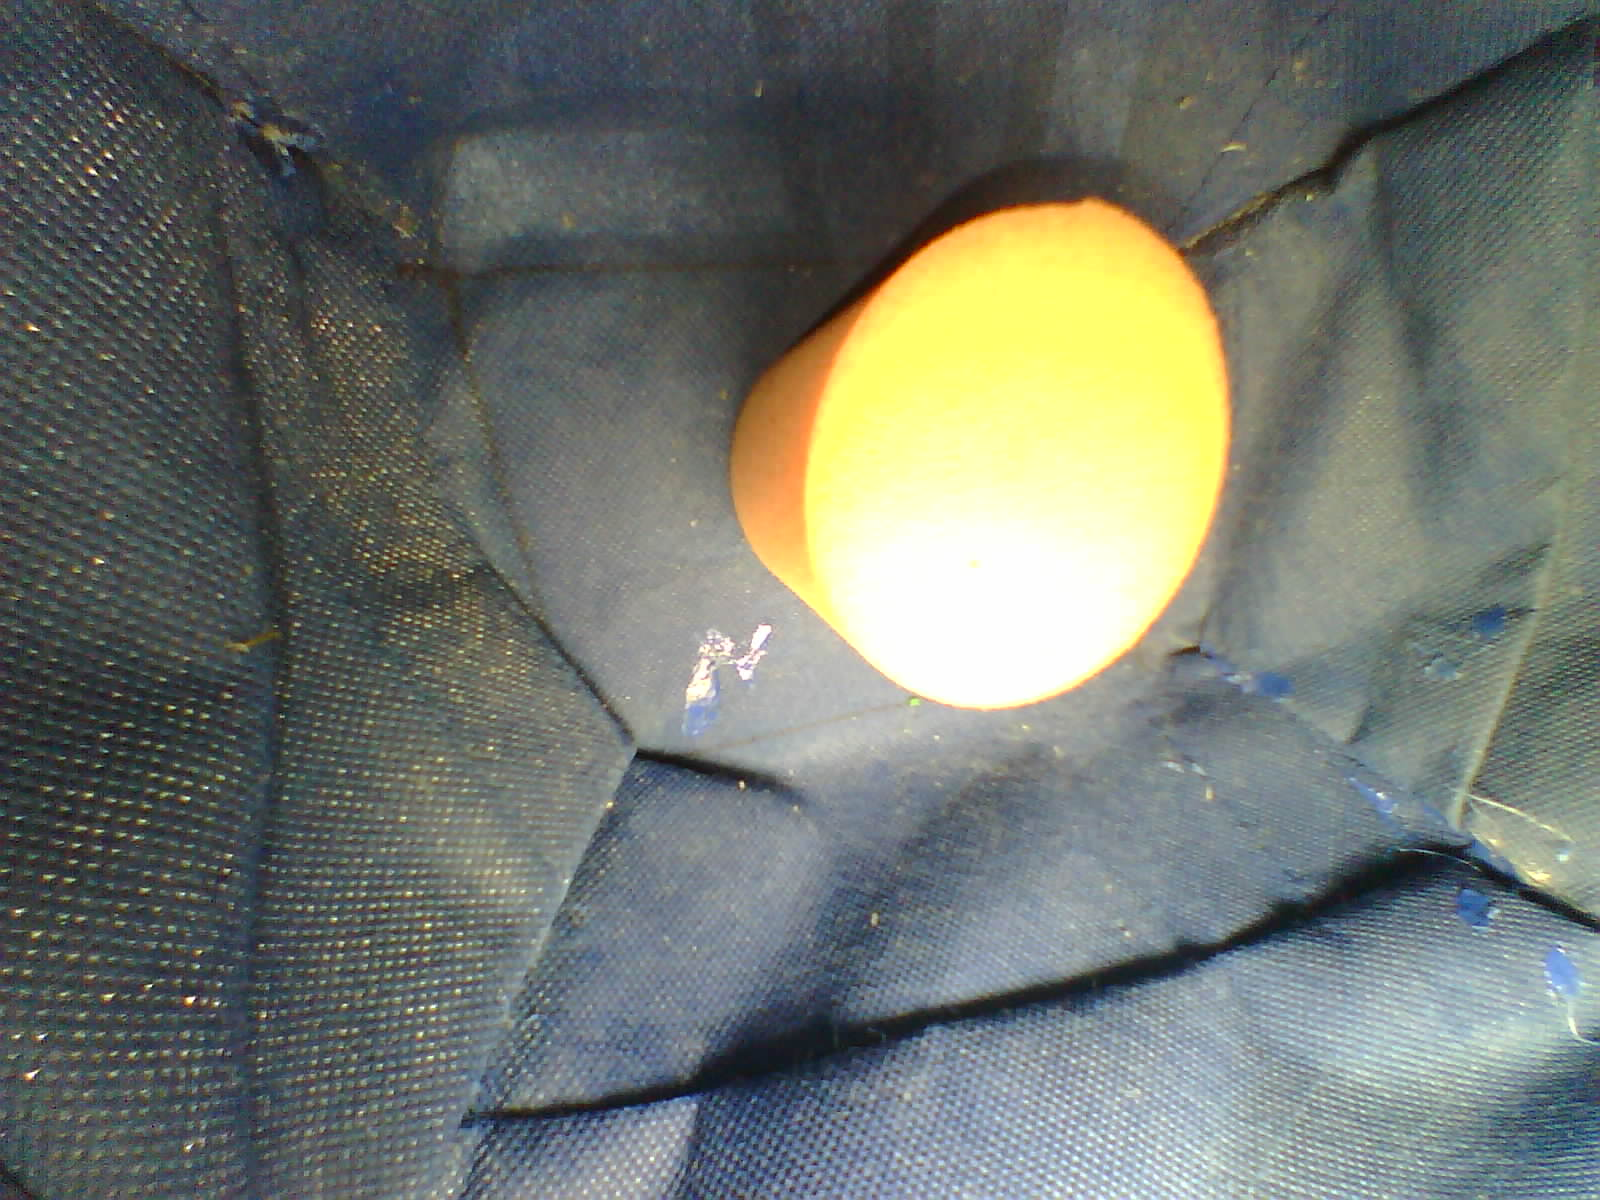cylinder-soft: (707, 174, 1255, 722)
